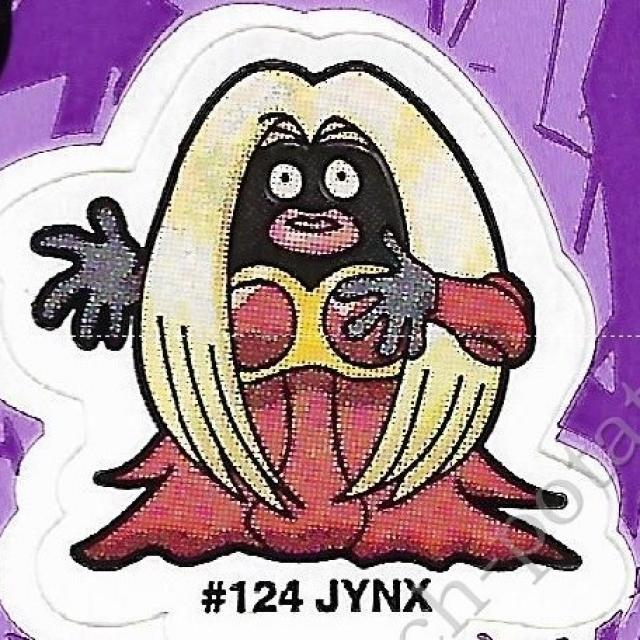Jynx: (126, 61, 532, 577)
